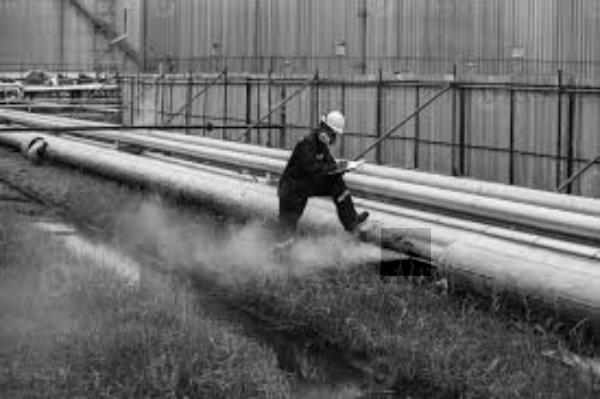gas: (381, 228, 431, 276)
